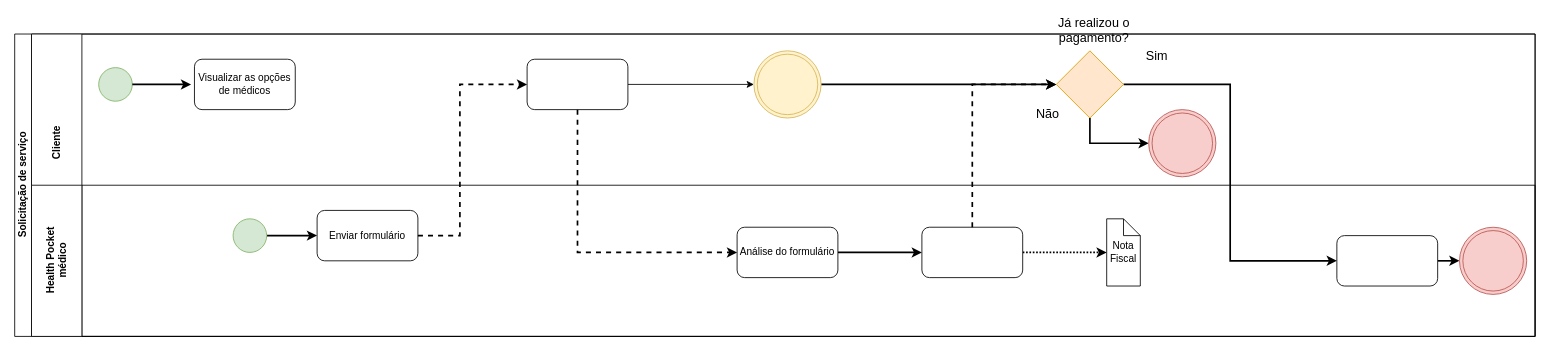
This 1550x351 diagram has some shape labels left out. The centre of each missing label's shape, as x and y in pixels:
"Fazer o custo da consulta baseado na complexidade" belongs at point 972,252.
"Realizar agendamento da consulta" belongs at point 1387,260.
"Responder formulário" belongs at point 577,84.
